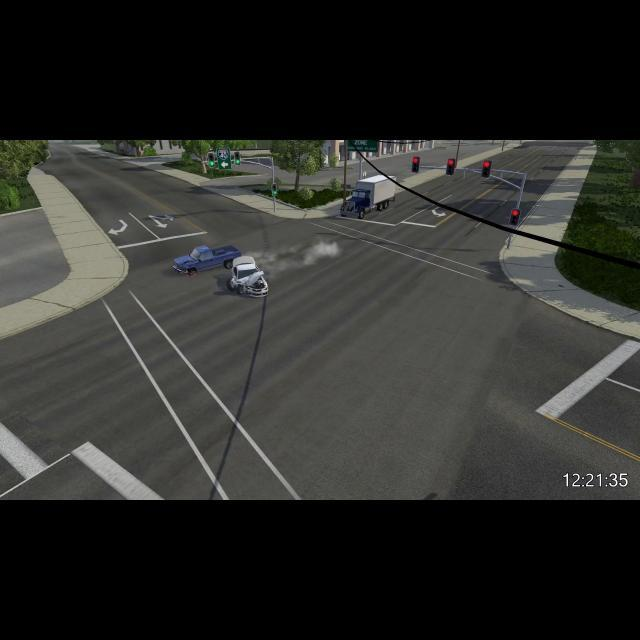accident: (170, 241, 274, 299)
